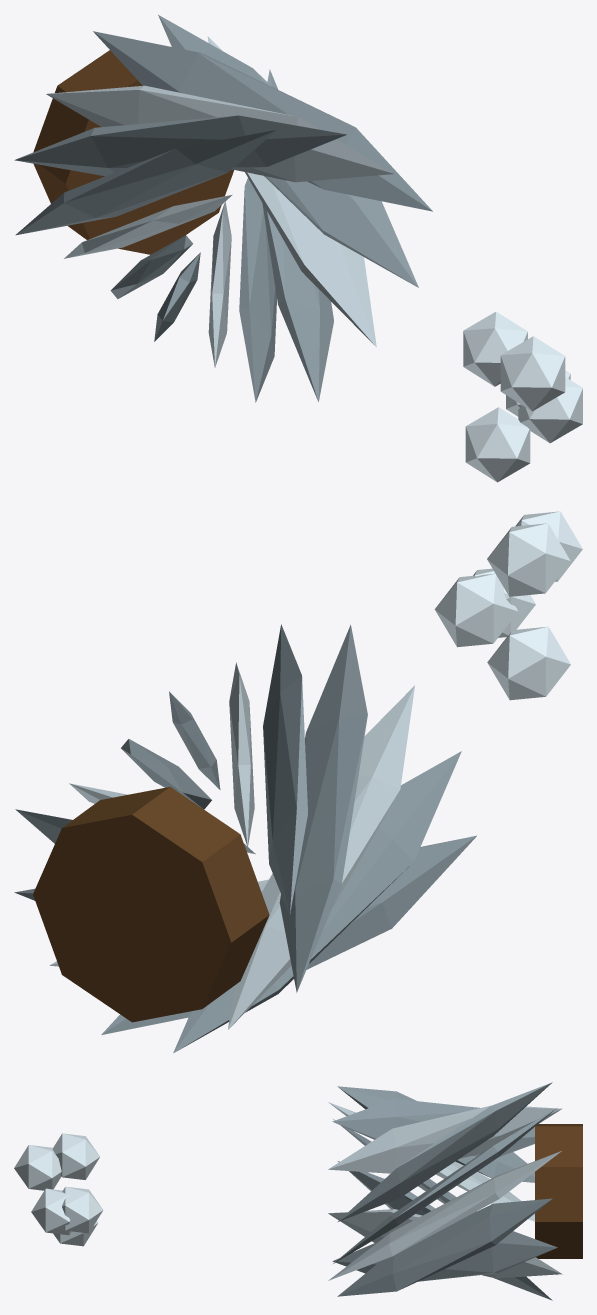
File: 4_mature.obj
3 renders of one model, top to bottom at view 1: azimuth 30°, elevation 25°; view 2: azimuth 150°, elevation 25°; view 3: azimuth 270°, elevation 25°, orthographic. The views are drawn at different scales.
Parts seen in each view (by area): view 1: dwarfweed_4_mature; view 2: dwarfweed_4_mature; view 3: dwarfweed_4_mature.
Part boxes in pixels (left/top/right/bottom): dwarfweed_4_mature: left=14, top=15, right=582, bottom=482; dwarfweed_4_mature: left=14, top=511, right=582, bottom=1053; dwarfweed_4_mature: left=14, top=1082, right=582, bottom=1300.
Bounding box in the file's own units: 0.1808 × 0.1808 × 0.4745.
